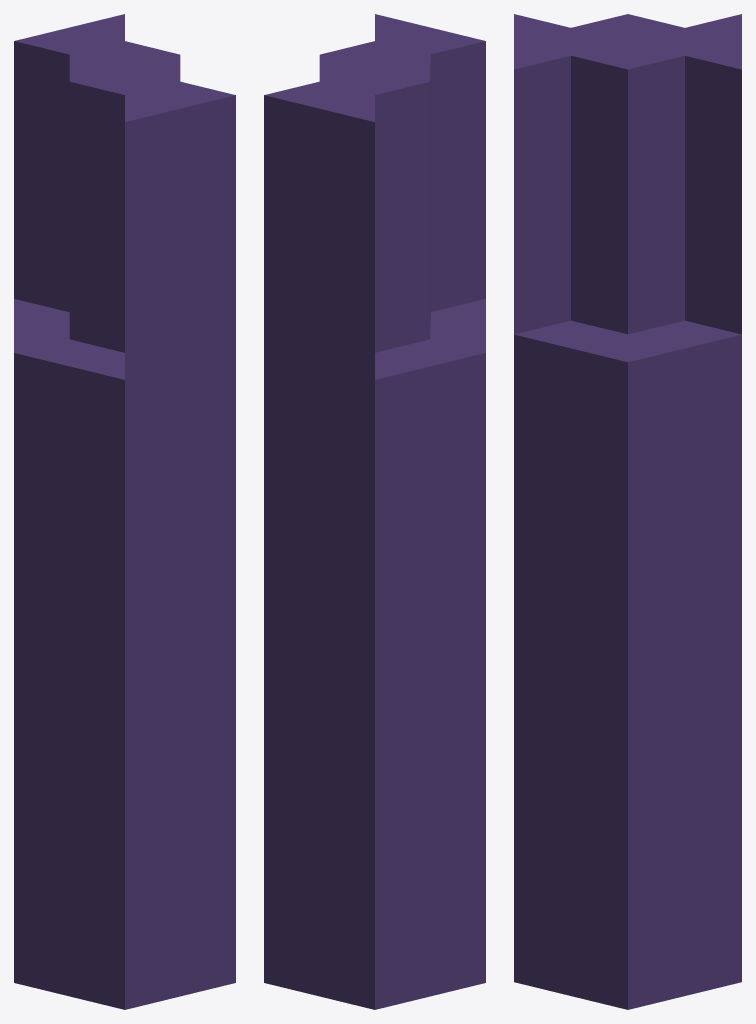
The model's file is Hex_Empty.fbx.
3 views of the same model, side by side, from view 1: azimuth 30°, elevation 25°; view 2: azimuth 150°, elevation 25°; view 3: azimuth 270°, elevation 25° (orthographic). The views are drawn at different scales.
Parts seen in each view (by area): view 1: TileHex16; view 2: TileHex16; view 3: TileHex16.
Boxes of the visible parts, bbox=[...] form: TileHex16: bbox=[14, 14, 235, 1009]; TileHex16: bbox=[264, 14, 485, 1009]; TileHex16: bbox=[514, 14, 741, 1009].
Bounding box in the file's own units: 118 × 450 × 102.
